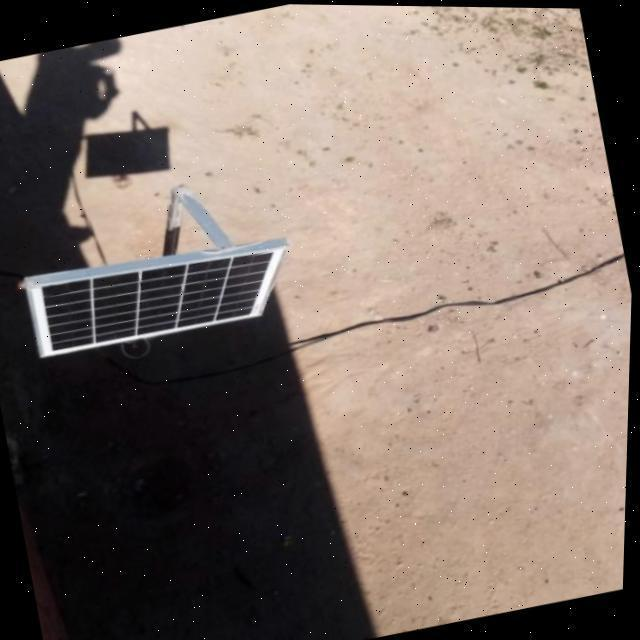Normal Solar Panel: (27, 230, 301, 363)
